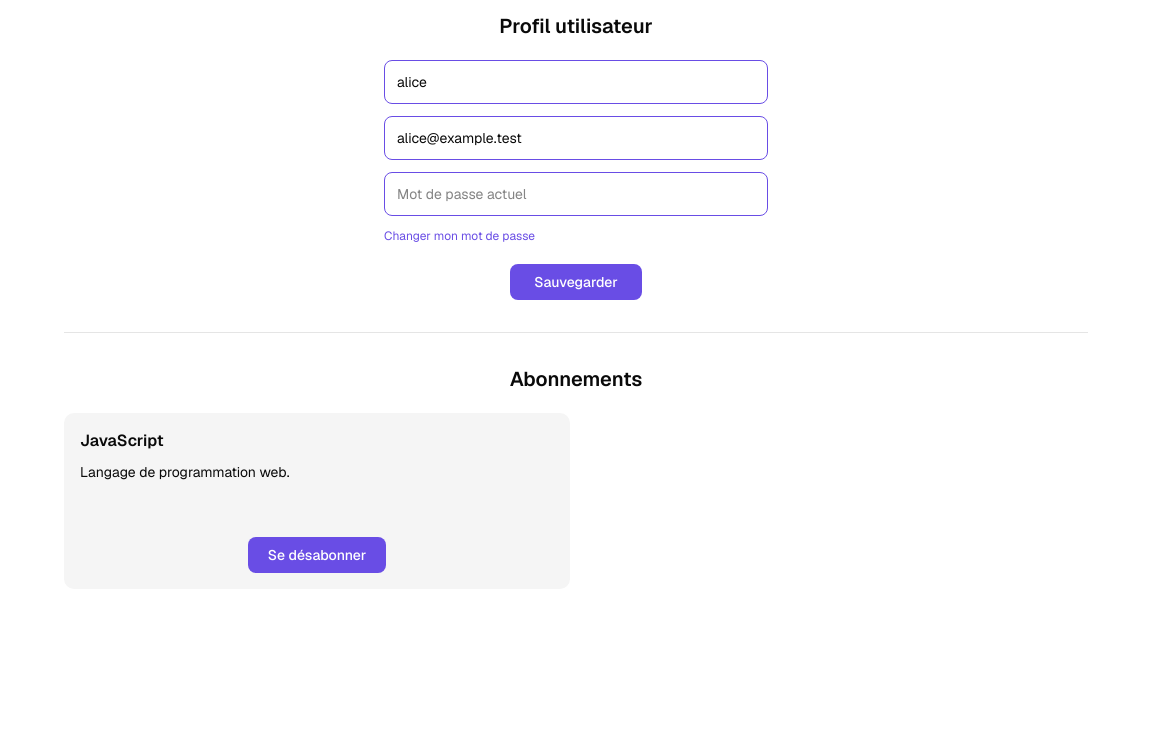
ProfilePage › refuse un pseudo invalide avant l'appel API
Replace the text in the 1st field named "Nom d'utilisateur" with "alice!" at [576, 82], box [384,60,768,104]
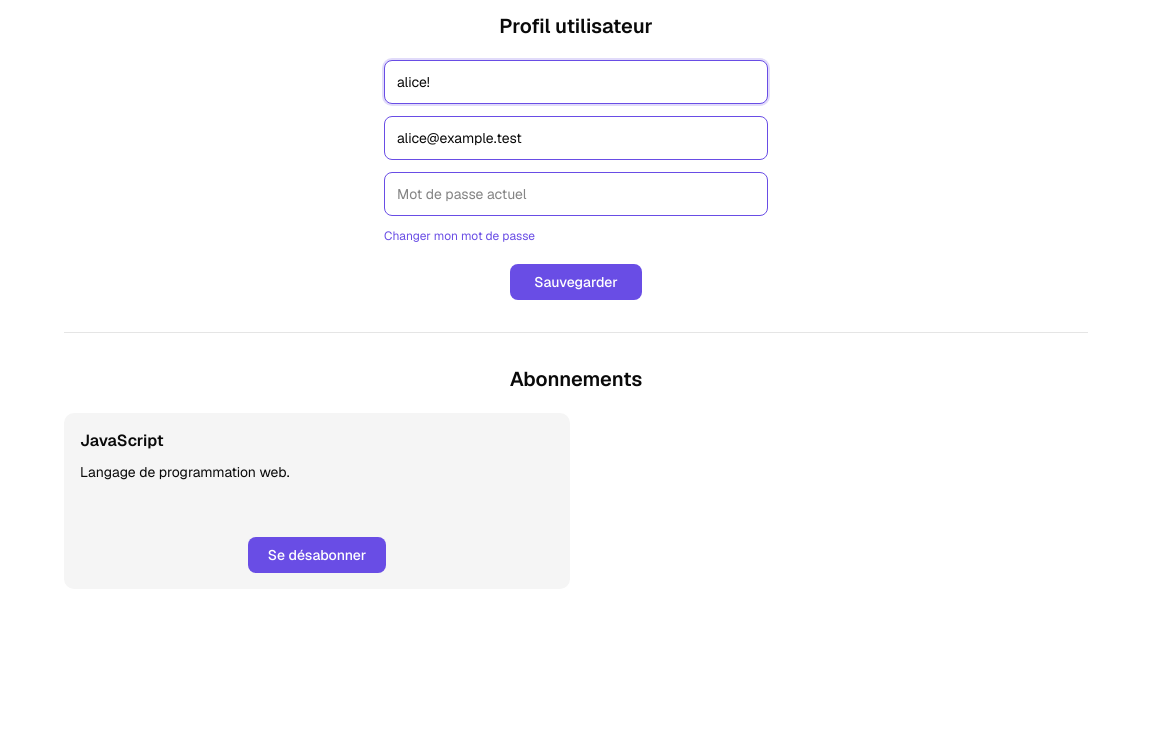
Type "MotDePasseActuel123!" into the password field labelled "Mot de passe actuel" at [576, 194], box [384,172,768,216]
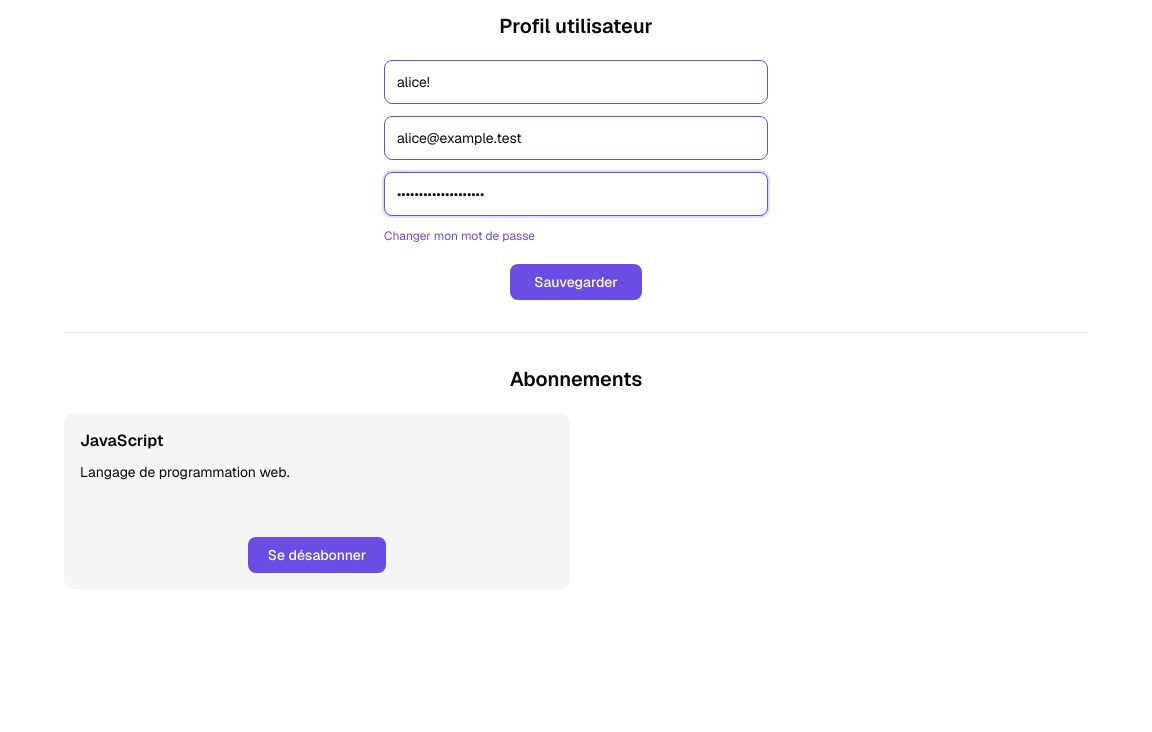
Click the button "Sauvegarder" at [576, 282], box [510,264,642,300]
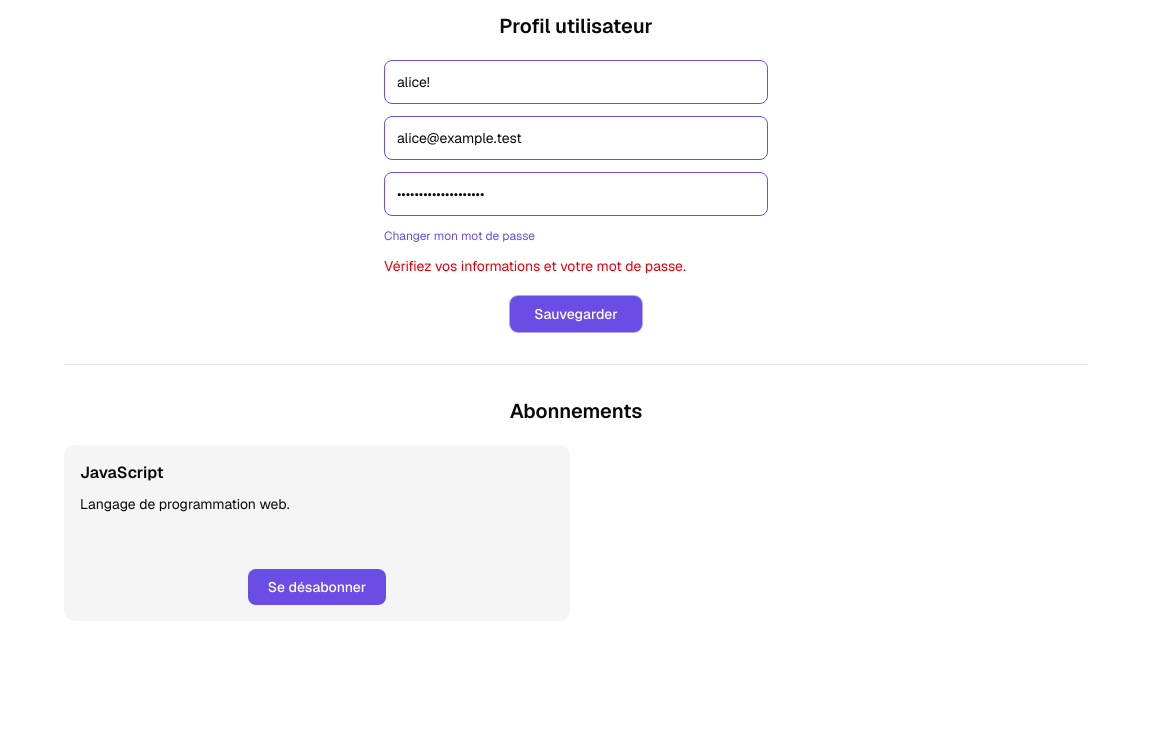
Check: the message reads "Vérifiez vos informations et votre mot de passe.", box [384,257,686,275]
